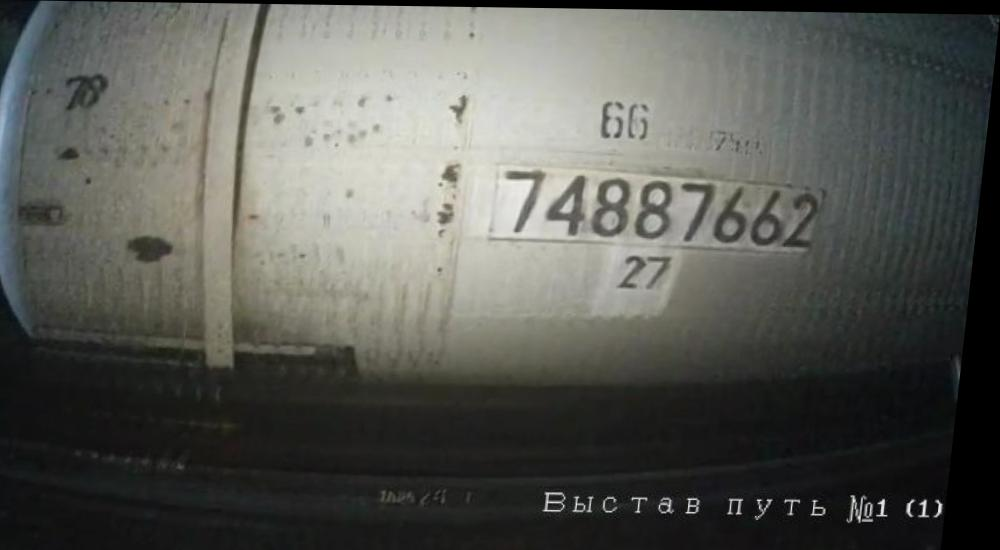Wagon-number: (494, 162, 833, 251)
